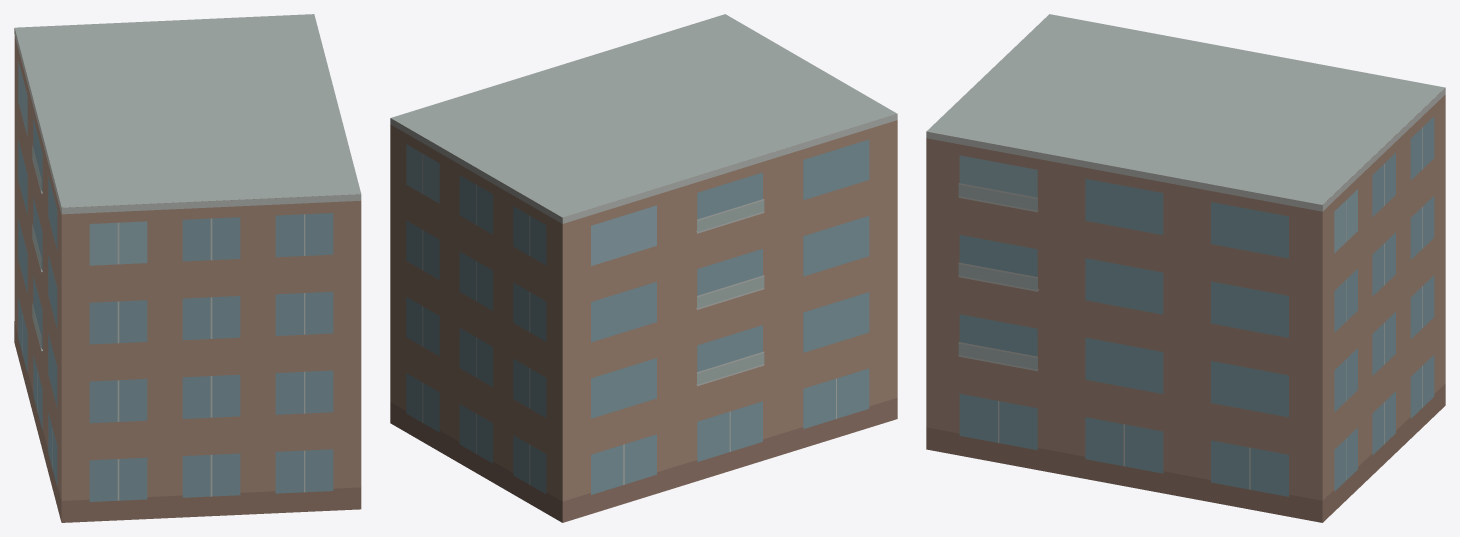
Rendered from survey-upis-32720016.glb.
3 renders of one model, left to right at view 1: azimuth 30°, elevation 25°; view 2: azimuth 150°, elevation 25°; view 3: azimuth 270°, elevation 25°, orthographic. The views are drawn at different scales.
Parts seen in each view (by area): view 1: survey-upis-32720016.tmp; view 2: survey-upis-32720016.tmp; view 3: survey-upis-32720016.tmp.
Part boxes in pixels (x1=…): survey-upis-32720016.tmp: x1=14, y1=14, x2=361, y2=522; survey-upis-32720016.tmp: x1=390, y1=14, x2=897, y2=522; survey-upis-32720016.tmp: x1=926, y1=14, x2=1445, y2=522.
Bounding box in the file's own units: 15.09 × 11.7 × 17.33.
